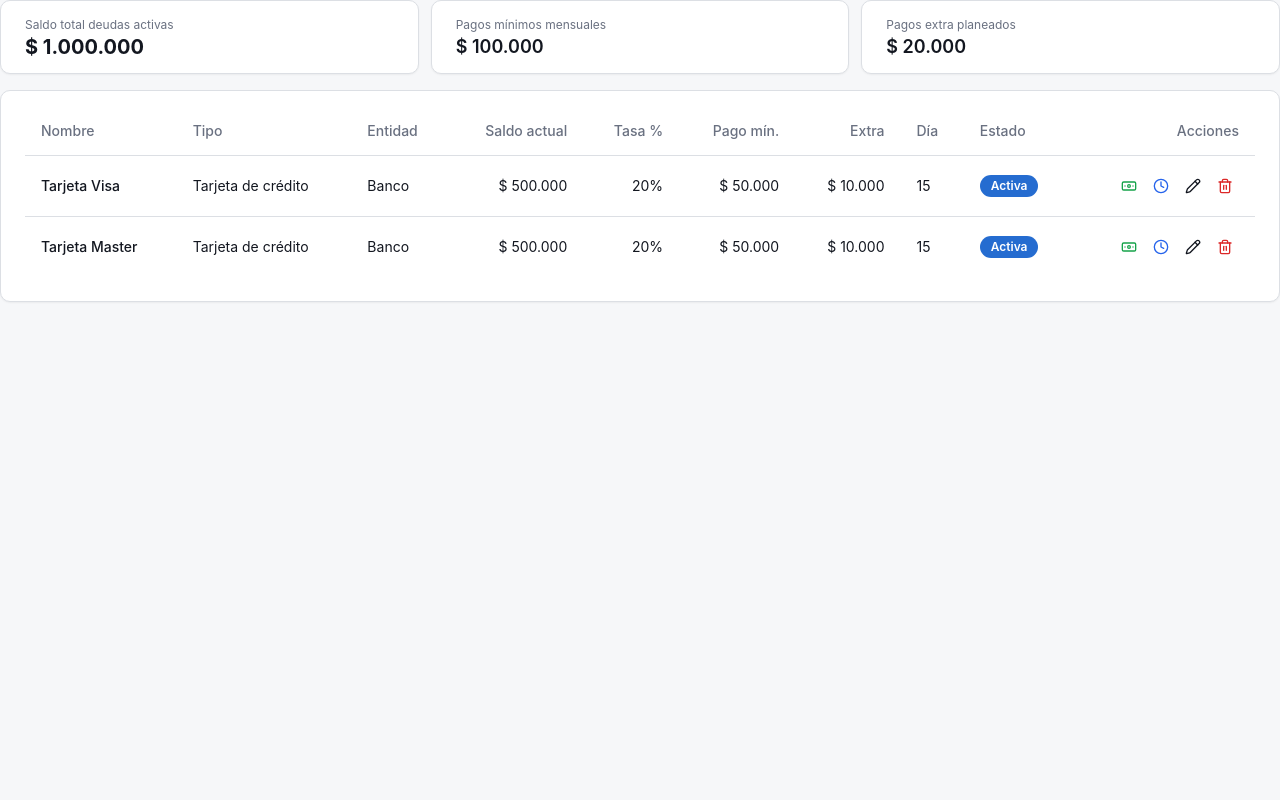
Test: DeudasTable › filters and sorts a selected deuda's pago history by date (most recent first)
Note: Open the "Ver historial" dialog for the first deuda (Tarjeta Visa / d1)
Click the button titled "Ver historial" in the row of "Tarjeta Visa" at (1161, 186), box [1147,172,1175,200]
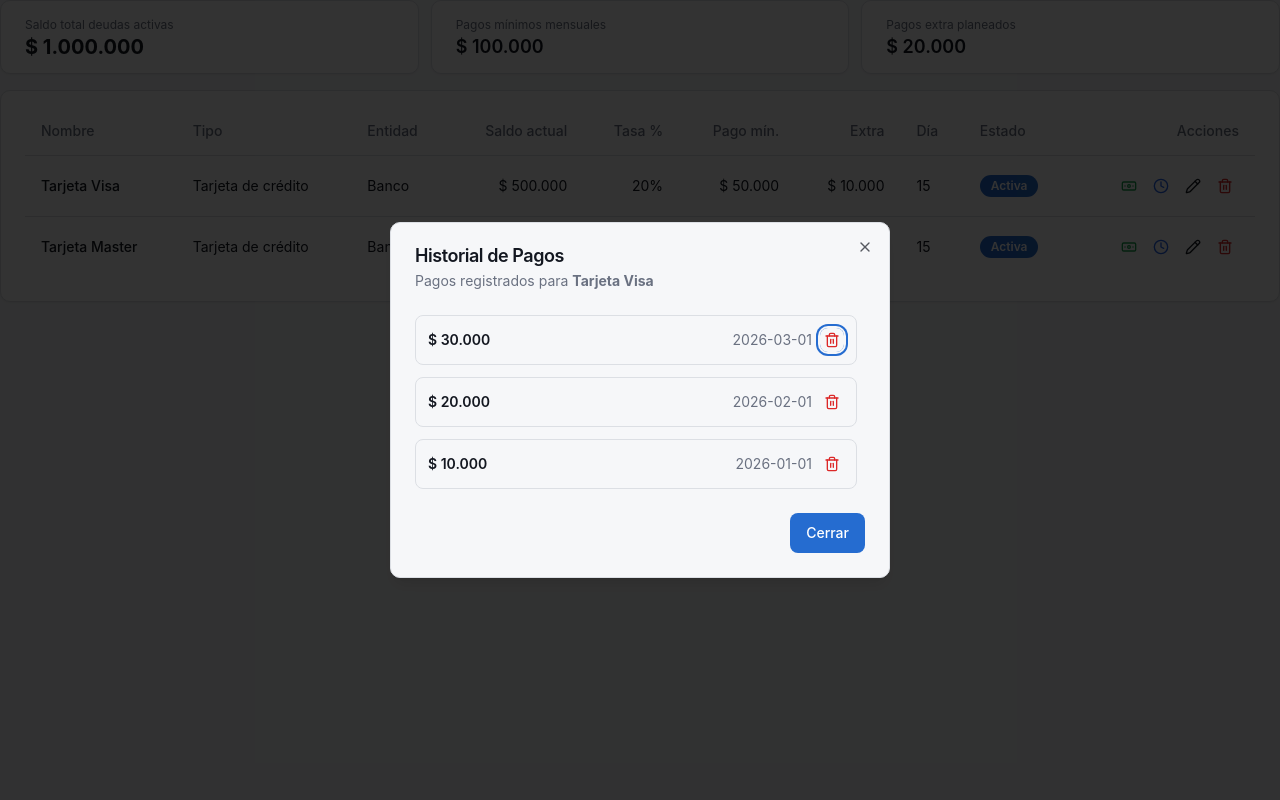
Expected: the heading "Historial de Pagos" is shown, [415,245,564,266]
